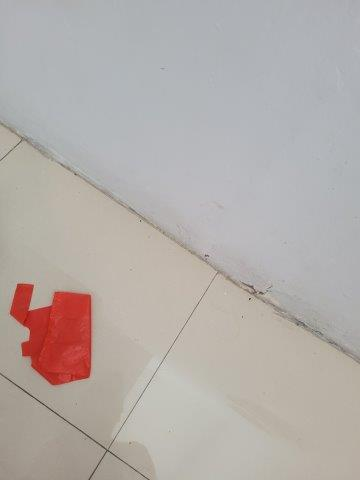plastik: (8, 283, 92, 385)
